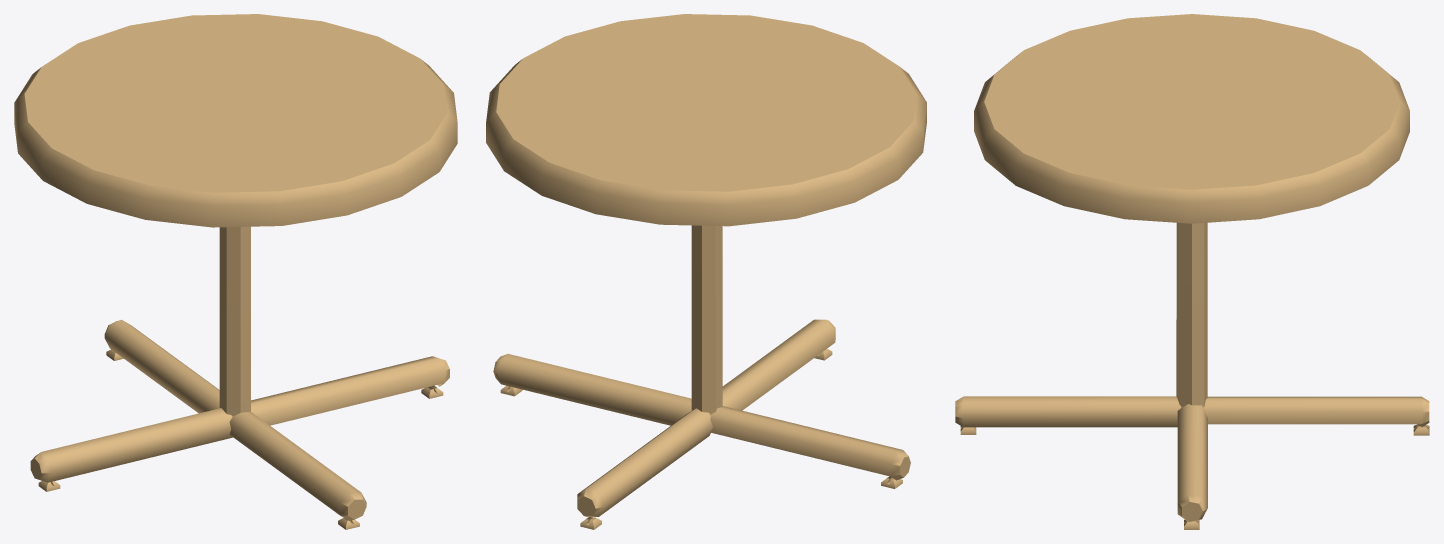
The model's file is table_circle.fbx.
The picture shows the model from 3 angles, left to right: view 1: azimuth 30°, elevation 25°; view 2: azimuth 150°, elevation 25°; view 3: azimuth 270°, elevation 25°; orthographic projection. The views are drawn at different scales.
Parts seen in each view (by area): view 1: table_circle1; view 2: table_circle1; view 3: table_circle1.
Boxes of the visible parts, x1,y1,x2,y2 form: table_circle1: [14, 14, 457, 529]; table_circle1: [486, 14, 926, 529]; table_circle1: [955, 14, 1429, 529].
Bounding box in the file's own units: 124 × 97.88 × 127.
